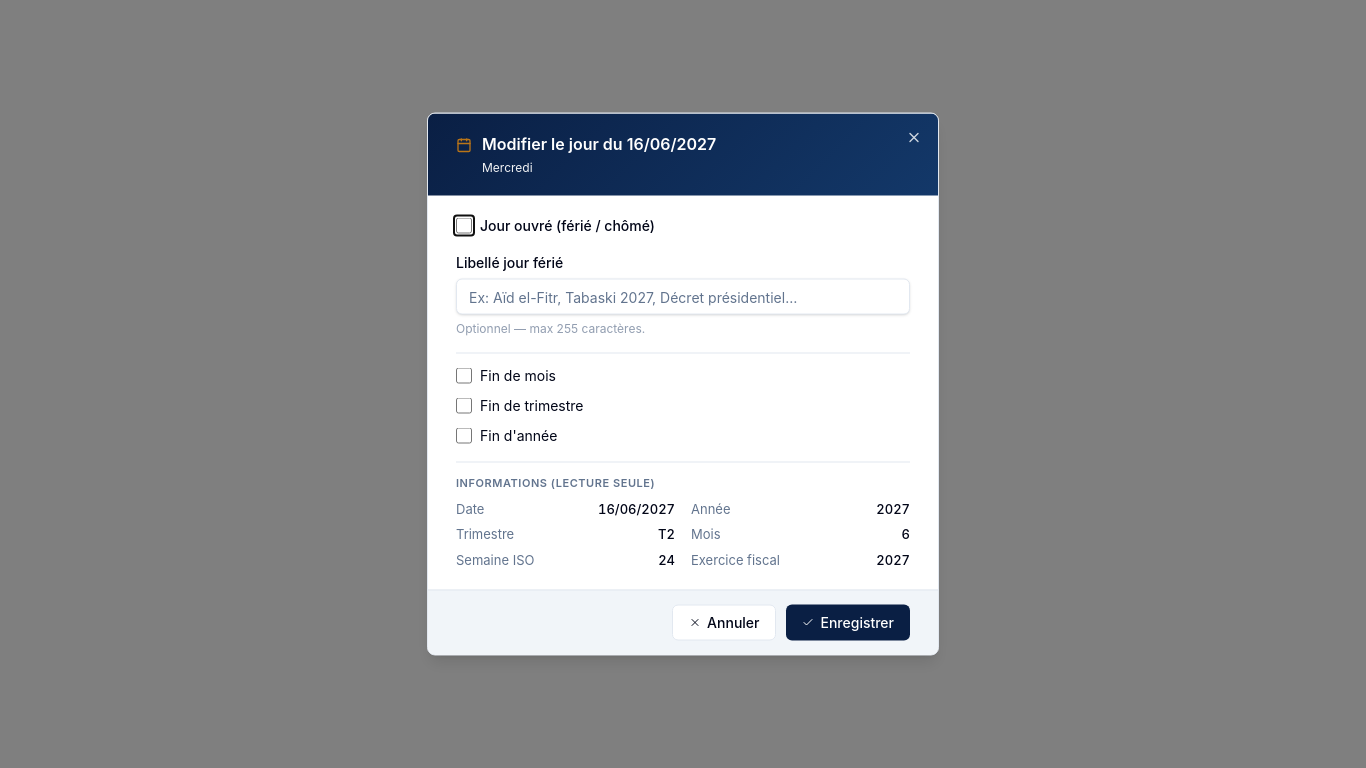
Scenario: JourFormDrawer › désactive le champ libellé quand le jour est ouvré
expect the field with test id "jour-form-libelle" is enabled: met, box [456,278,910,314]
# On coche « Jour ouvré » → le libellé se désactive
Click the checkbox with test id "jour-form-ouvre". click: [464, 226]
box: [456,218,472,234]
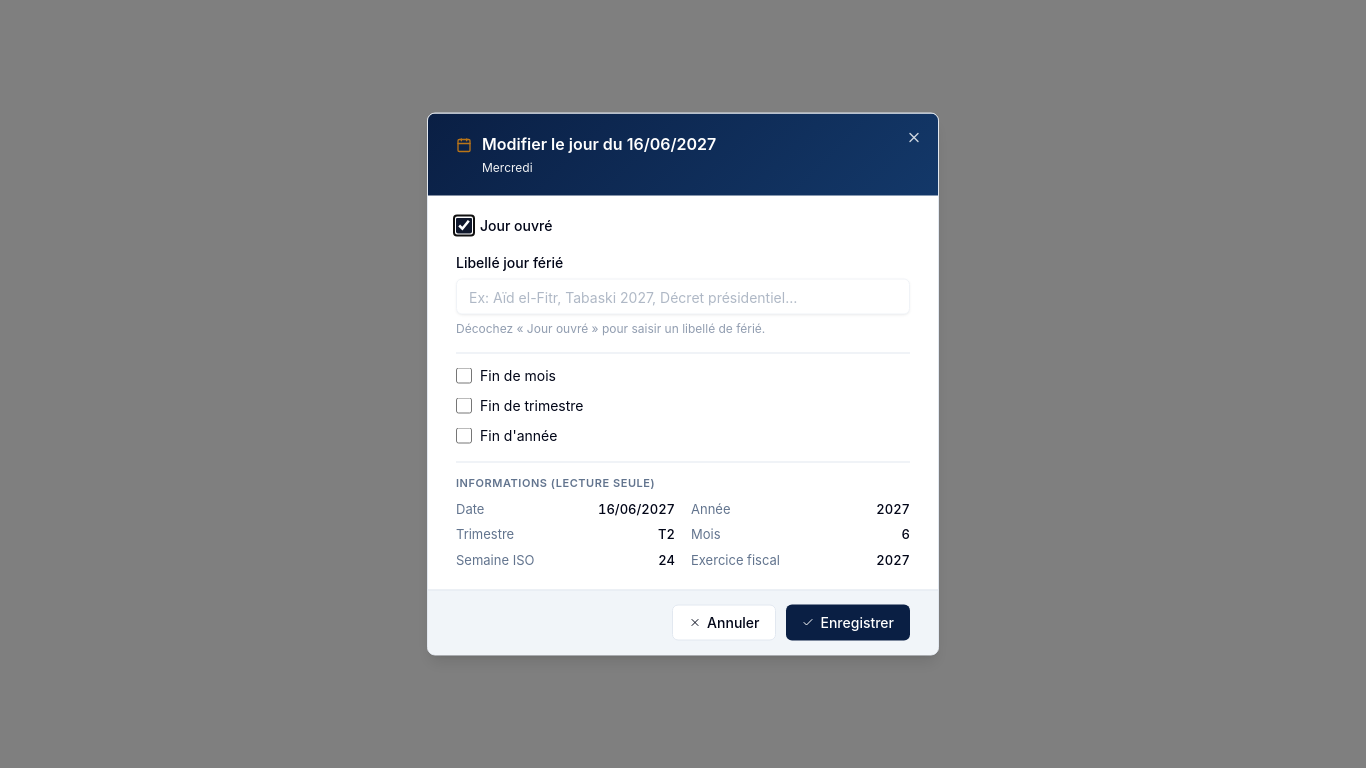
expect the field with test id "jour-form-libelle" is disabled: met, box [456,278,910,314]
